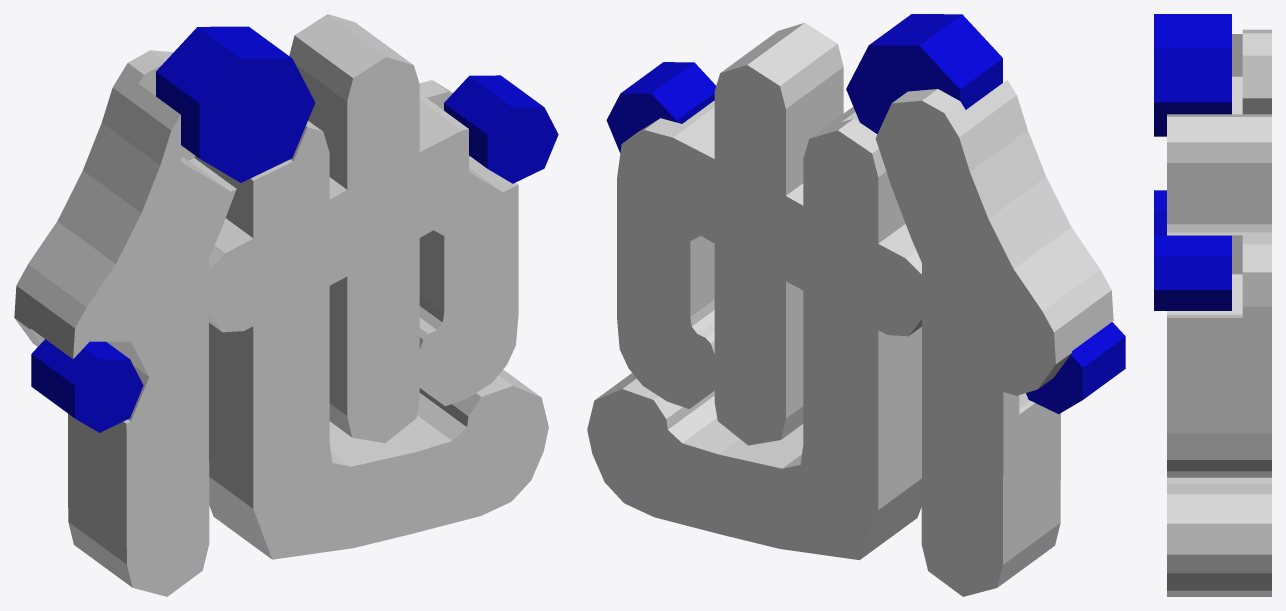
The model's file is Ch_Lite_China_他_01.fbx.
3 views of the same model, side by side, from view 1: azimuth 30°, elevation 25°; view 2: azimuth 150°, elevation 25°; view 3: azimuth 270°, elevation 25° (orthographic). The views are drawn at different scales.
Parts seen in each view (by area): view 1: sphere1; view 2: sphere1; view 3: sphere1.
Boxes of the visible parts, <box> form: sphere1: <box>14,14,558,596</box>; sphere1: <box>587,14,1125,596</box>; sphere1: <box>1154,14,1271,596</box>.
Size of the model in its own units: 0.9518 by 0.9914 by 0.2242.
